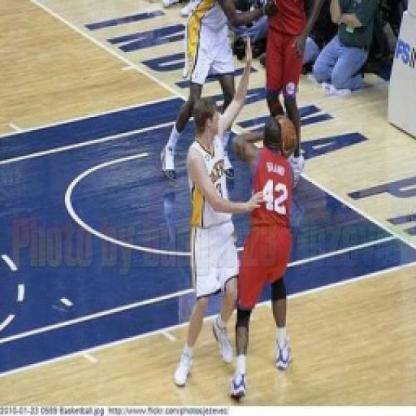basketball: (267, 113, 301, 158)
